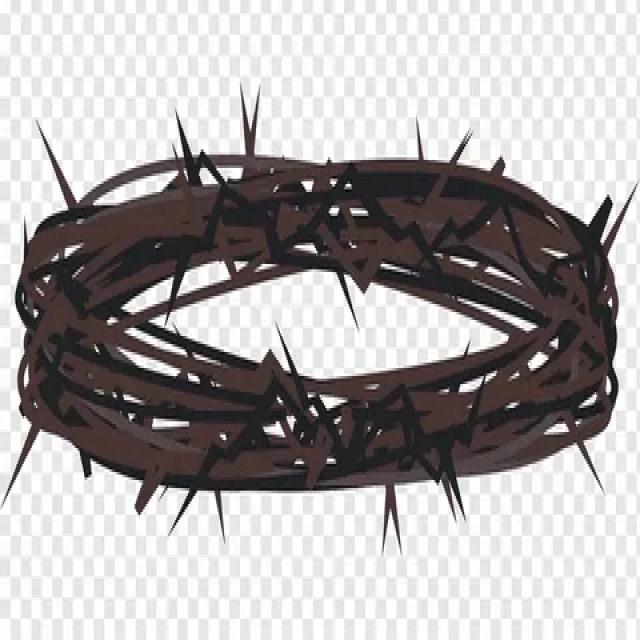crown: (0, 104, 640, 560)
